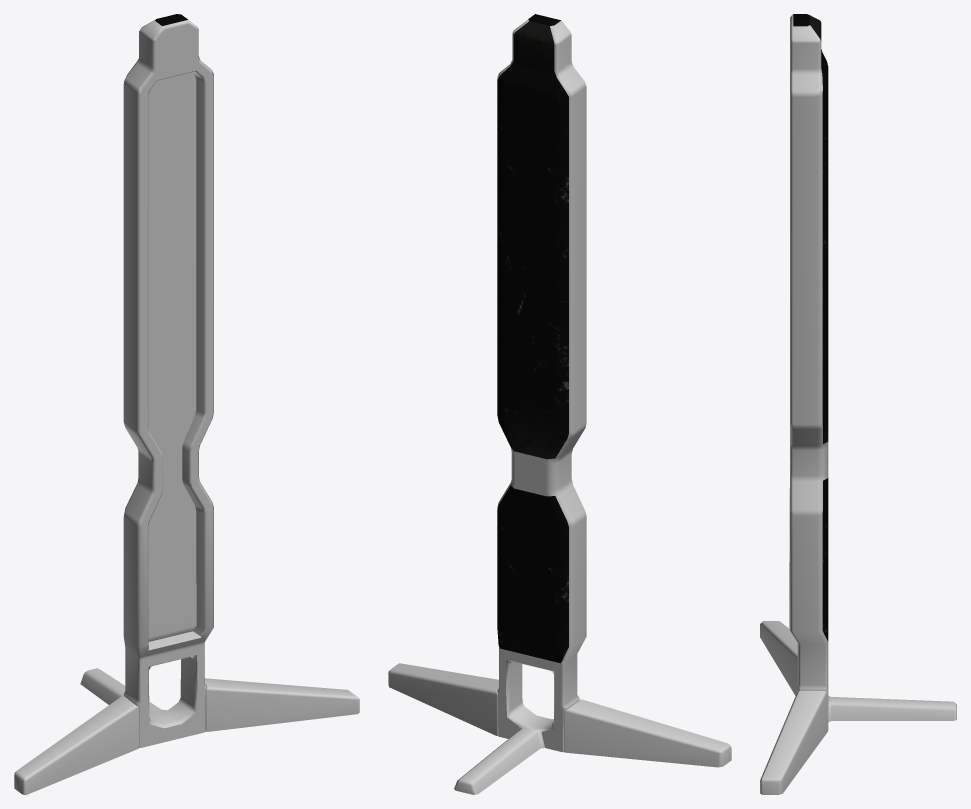
The model's file is SM_Light_C.FBX.
3 views of the same model, side by side, from view 1: azimuth 30°, elevation 25°; view 2: azimuth 150°, elevation 25°; view 3: azimuth 270°, elevation 25° (orthographic). The views are drawn at different scales.
Visible parts, largest first — view 1: Box054; view 2: Box054; view 3: Box054.
Boxes of the visible parts, bbox=[...] form: Box054: bbox=[14, 14, 359, 794]; Box054: bbox=[388, 14, 731, 794]; Box054: bbox=[760, 14, 956, 794].
Bounding box in the file's own units: 107 × 218 × 55.97.
